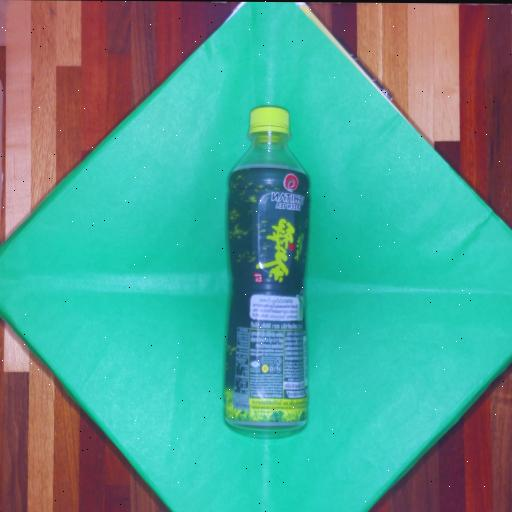bottle: (224, 107, 308, 430)
